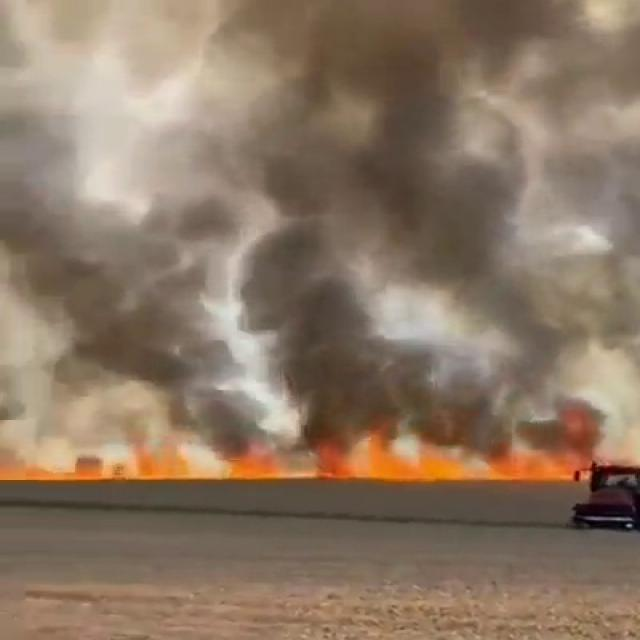Fire: (338, 435, 547, 481), (0, 454, 317, 481)
